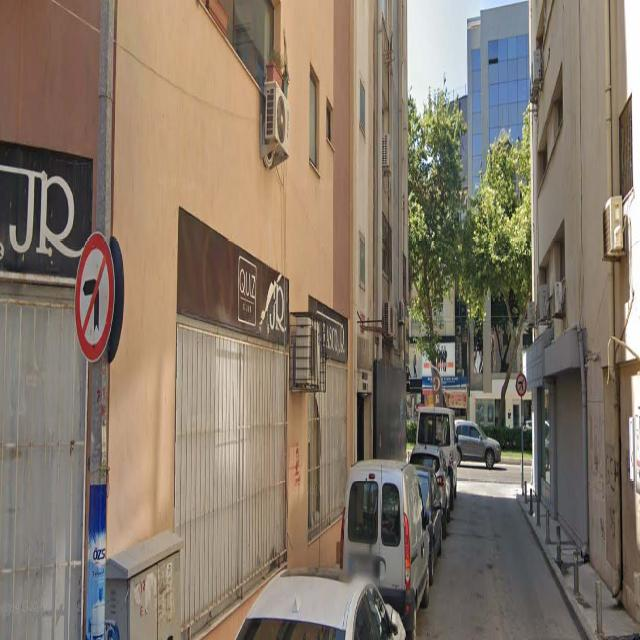soladonulmez: (76, 236, 111, 350), (515, 372, 526, 396)
